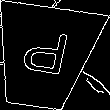P_S: (16, 29, 72, 85)
